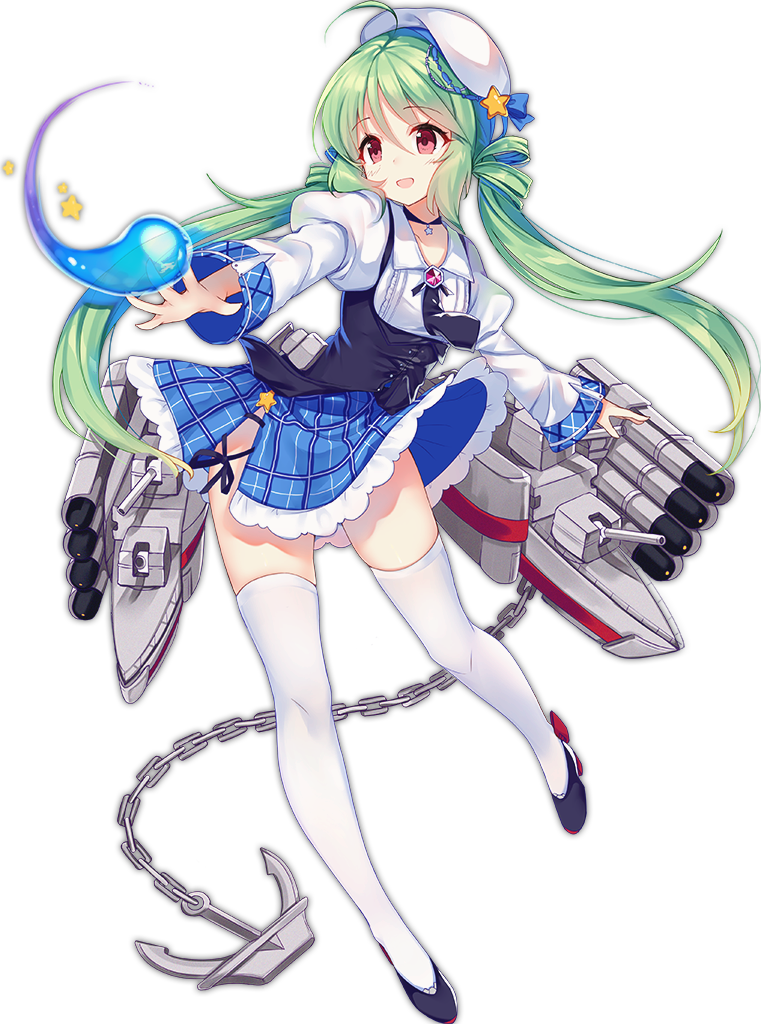person: (92, 1, 663, 854)
